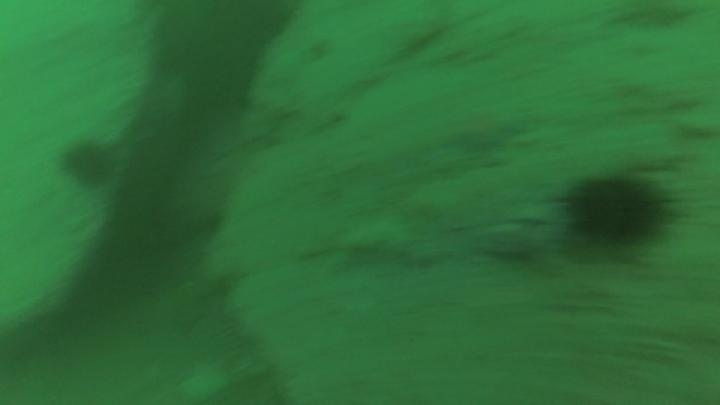echinus: (559, 170, 672, 254), (58, 137, 116, 189)
